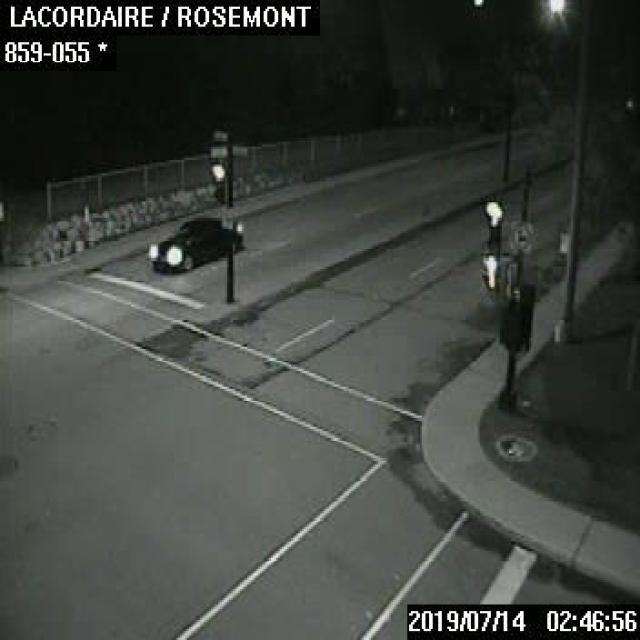vehicle: (149, 216, 241, 270)
